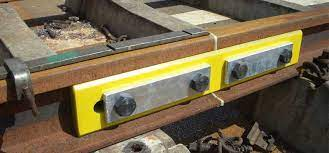insulated joint: (71, 28, 303, 140)
